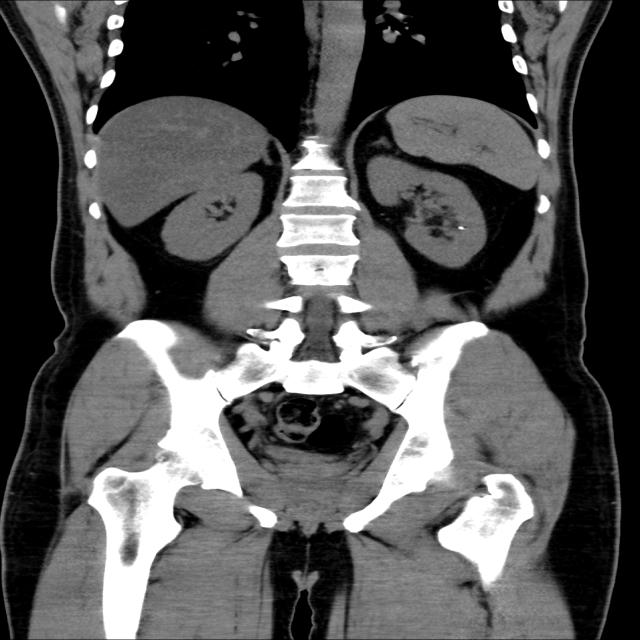kidneystone: (450, 222, 465, 230)
